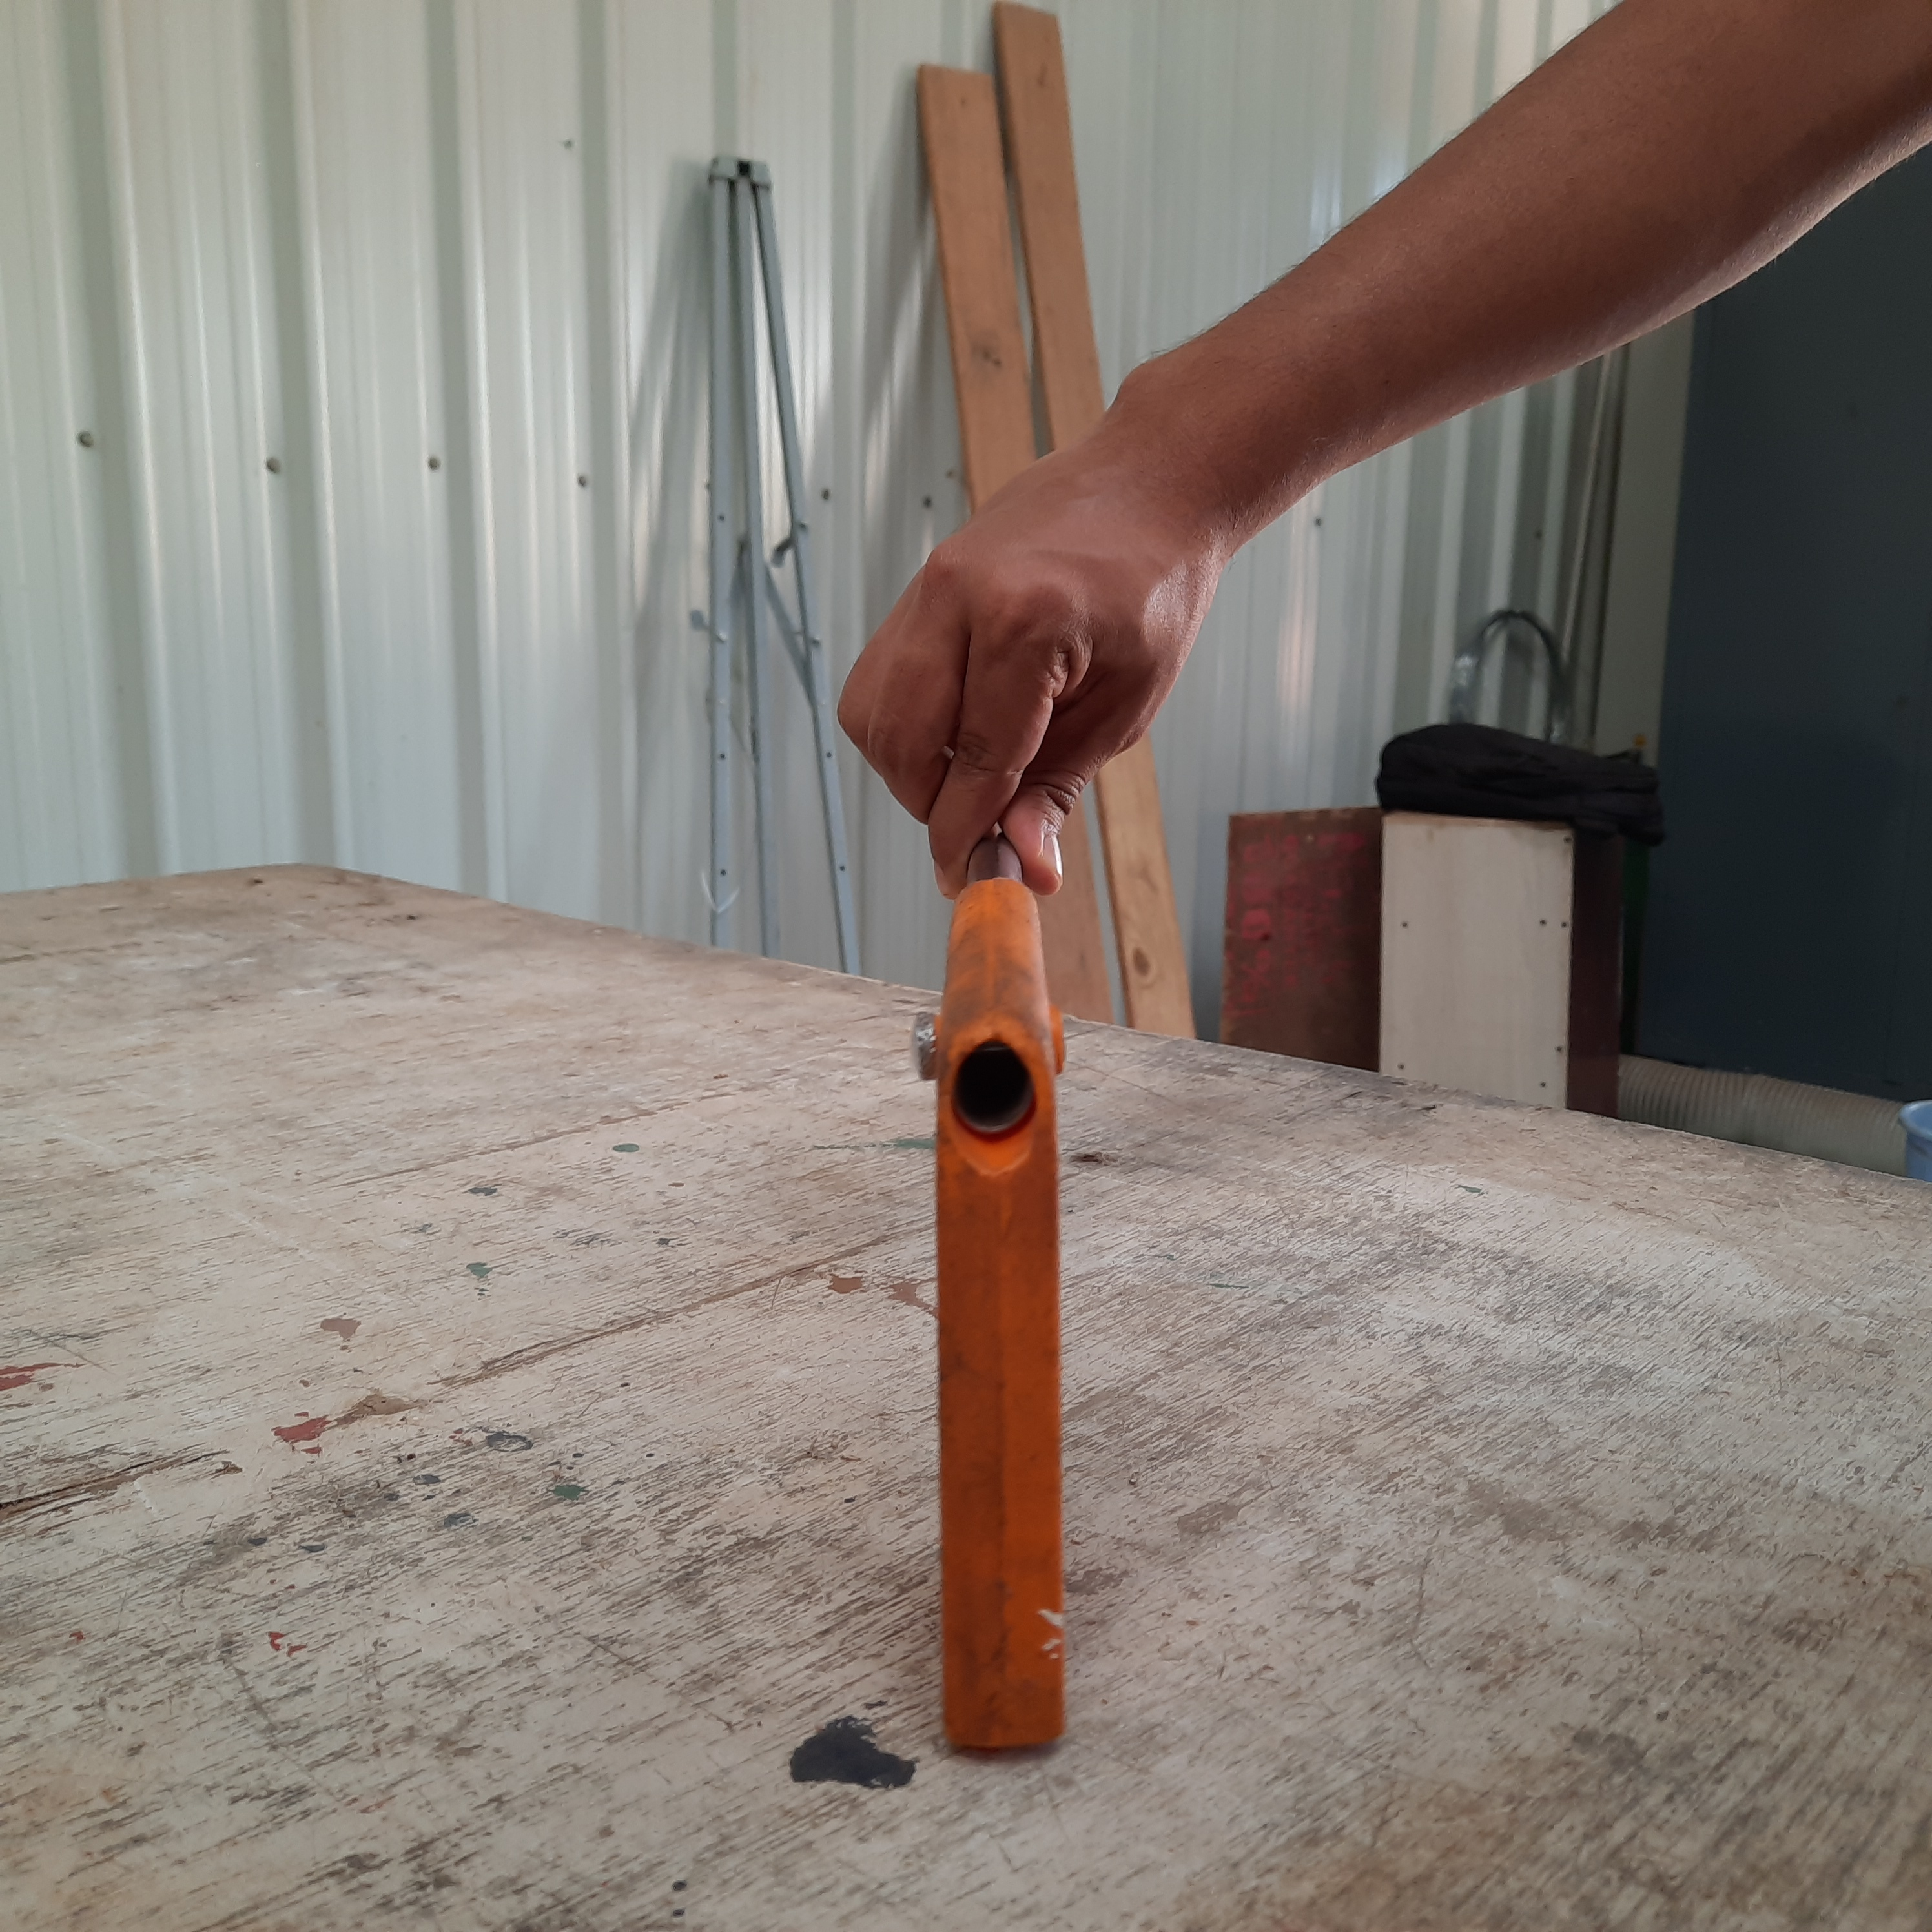Hexaframe: (860, 801, 1180, 1782)
